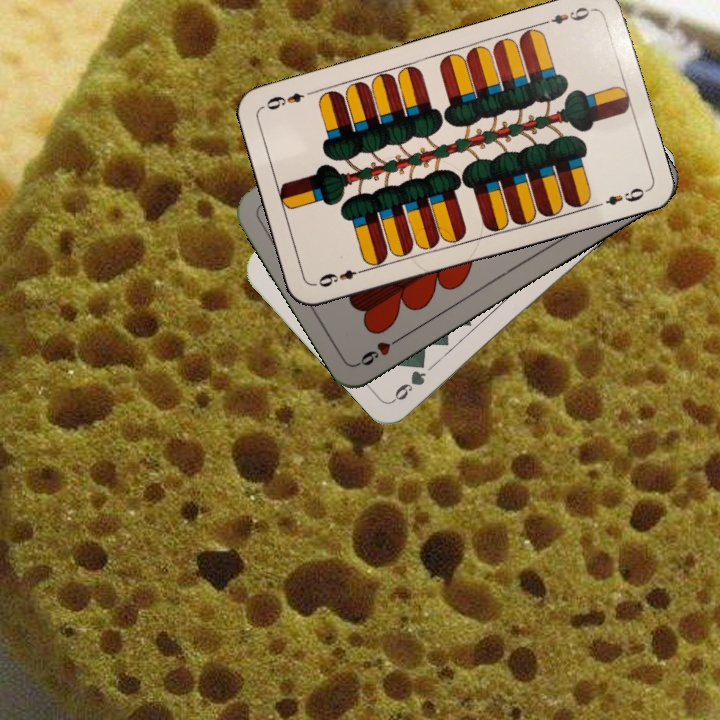E9: (538, 2, 597, 28), (314, 264, 370, 290)
G9: (389, 366, 429, 404)
H9: (354, 331, 407, 369)
